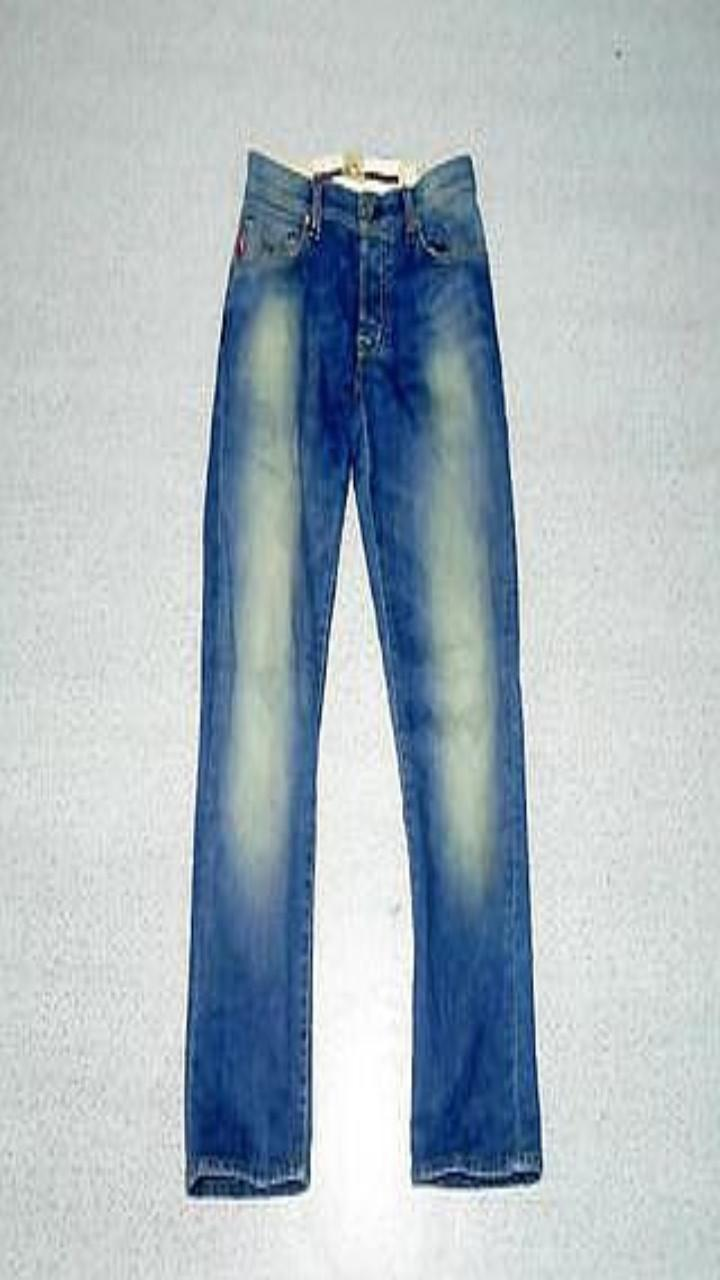Jeans: (185, 149, 541, 1196)
